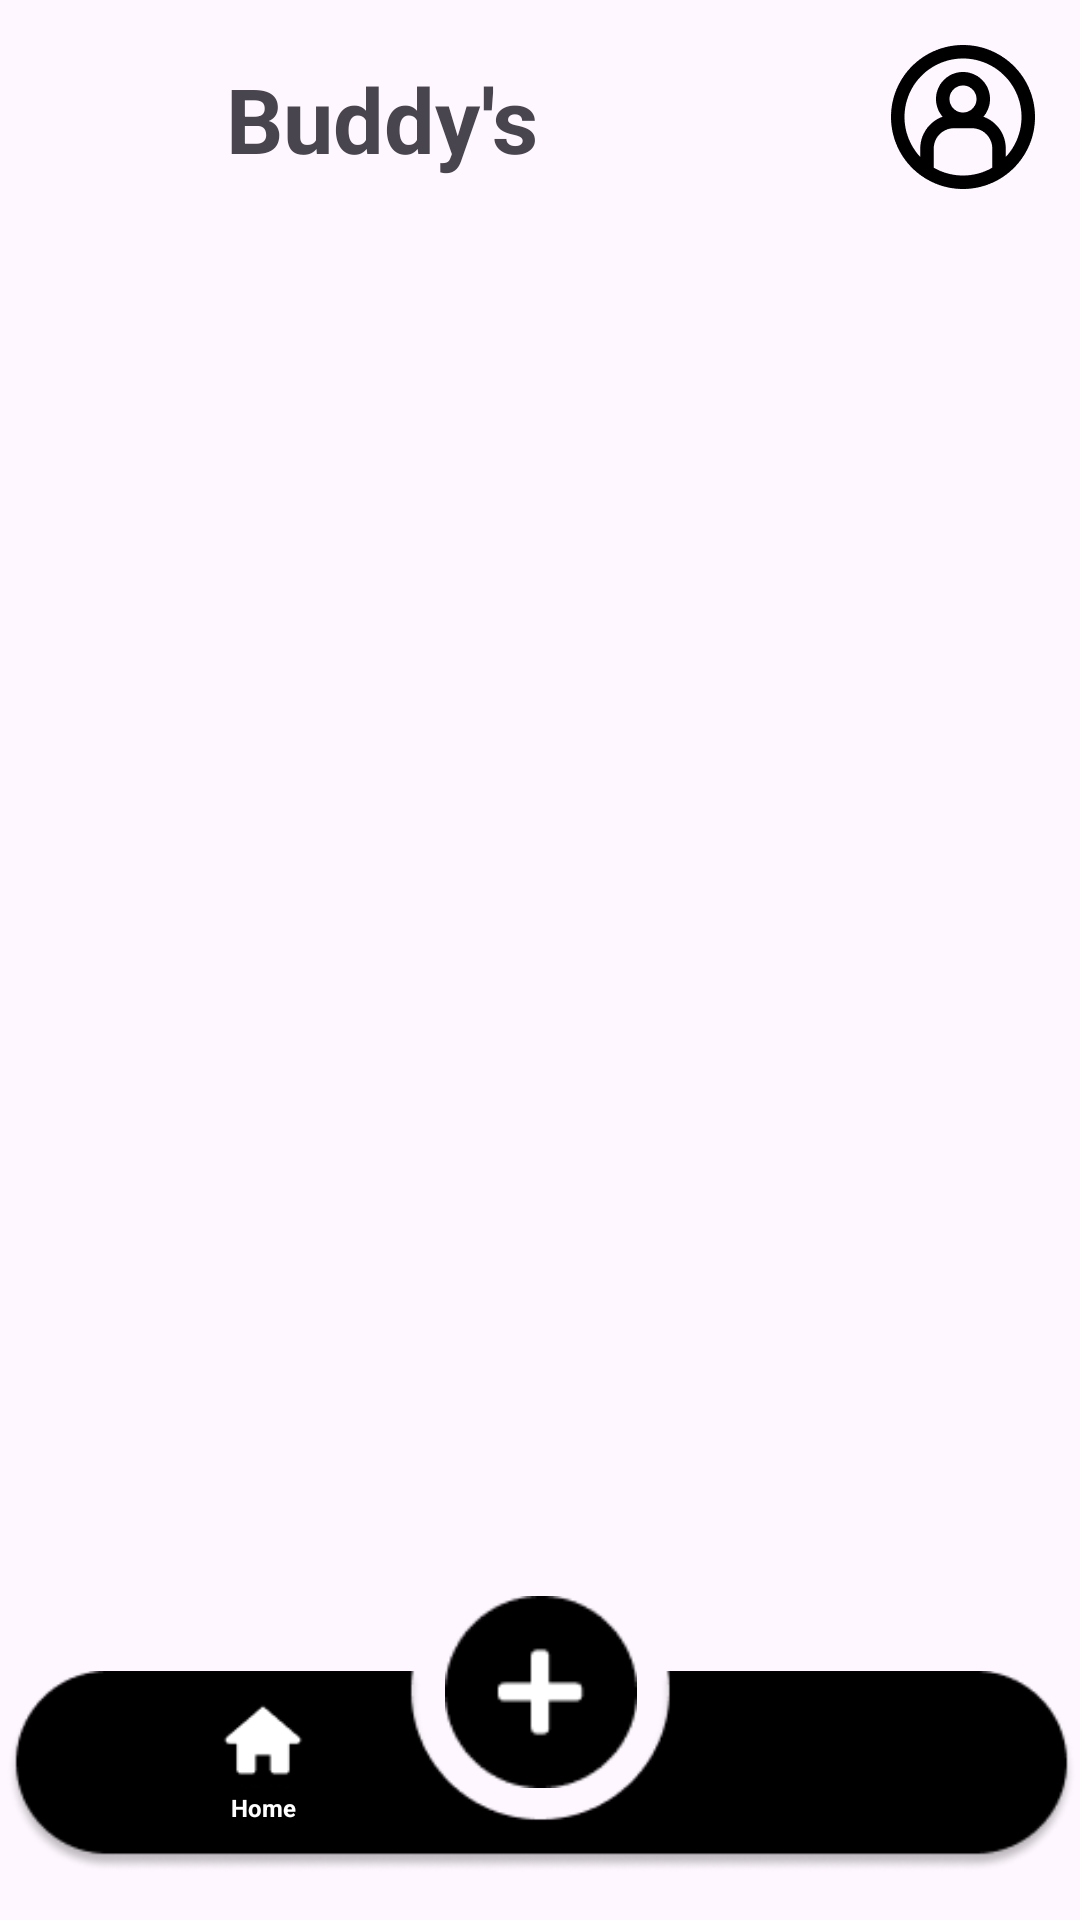

Named icons in this screenshot (1080*1920) and their bounding boxes, (x1, y1, x2, y2):
npost: (445, 1596, 637, 1788)
profile: (891, 45, 1035, 189)
